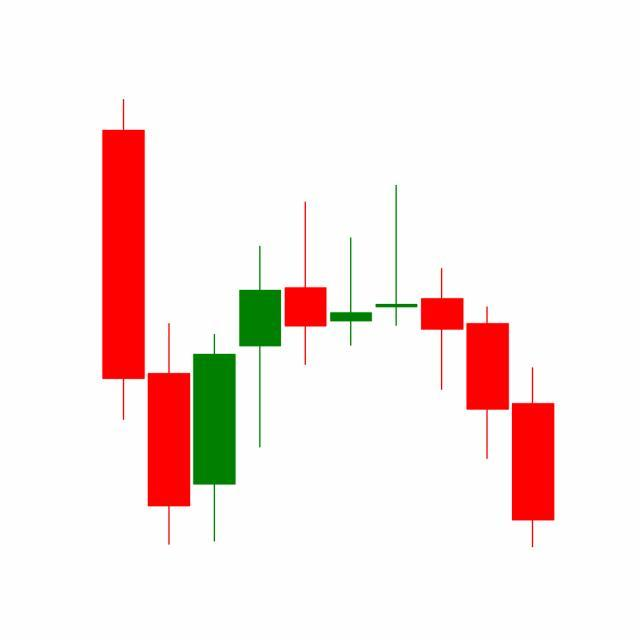Hikkake Pattern: (283, 183, 512, 463)
